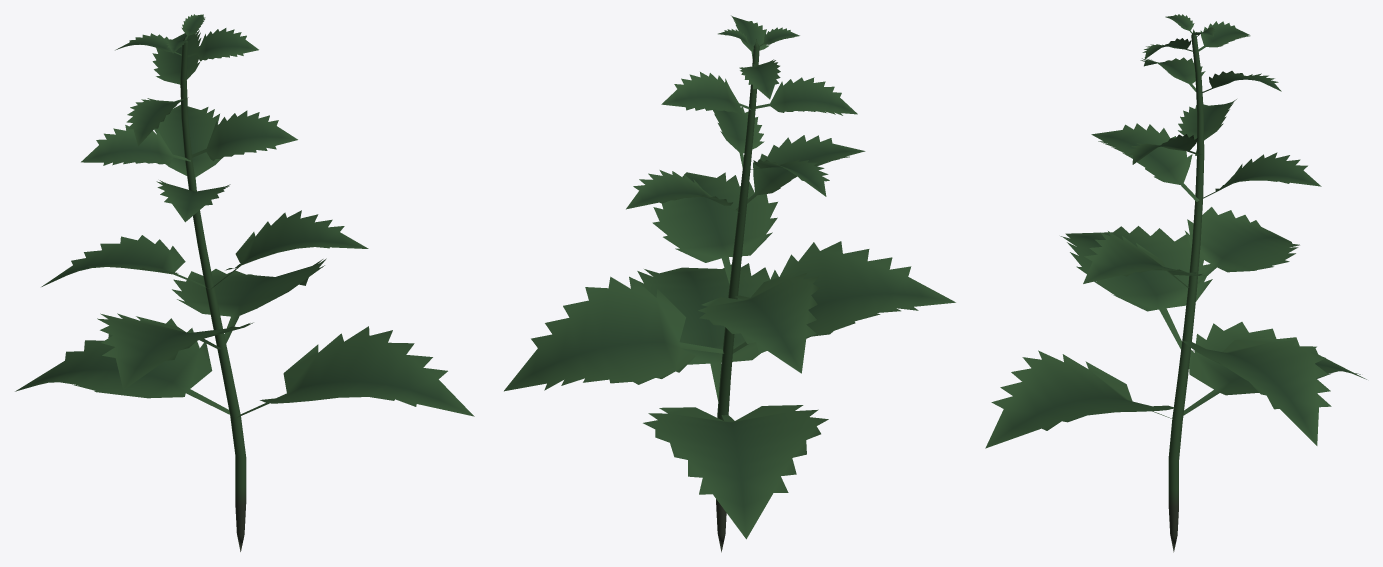
Rendered from plants-leafy-plants-nettle_v2.fbx.
3 renders of one model, left to right at view 1: azimuth 30°, elevation 25°; view 2: azimuth 150°, elevation 25°; view 3: azimuth 270°, elevation 25°, orthographic. The views are drawn at different scales.
Visible parts, largest first — view 1: Nettle_v2; view 2: Nettle_v2; view 3: Nettle_v2.
Boxes of the visible parts, x1,y1,x2,y2 form: Nettle_v2: [15, 14, 474, 551]; Nettle_v2: [504, 15, 955, 552]; Nettle_v2: [985, 14, 1366, 552].
Size of the model in its own units: 0.4993 by 0.8 by 0.5445.
